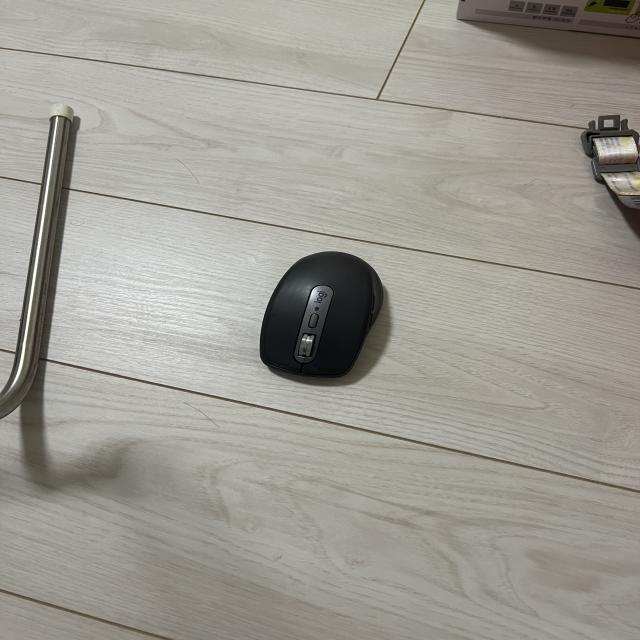mouse: (265, 244, 383, 373)
